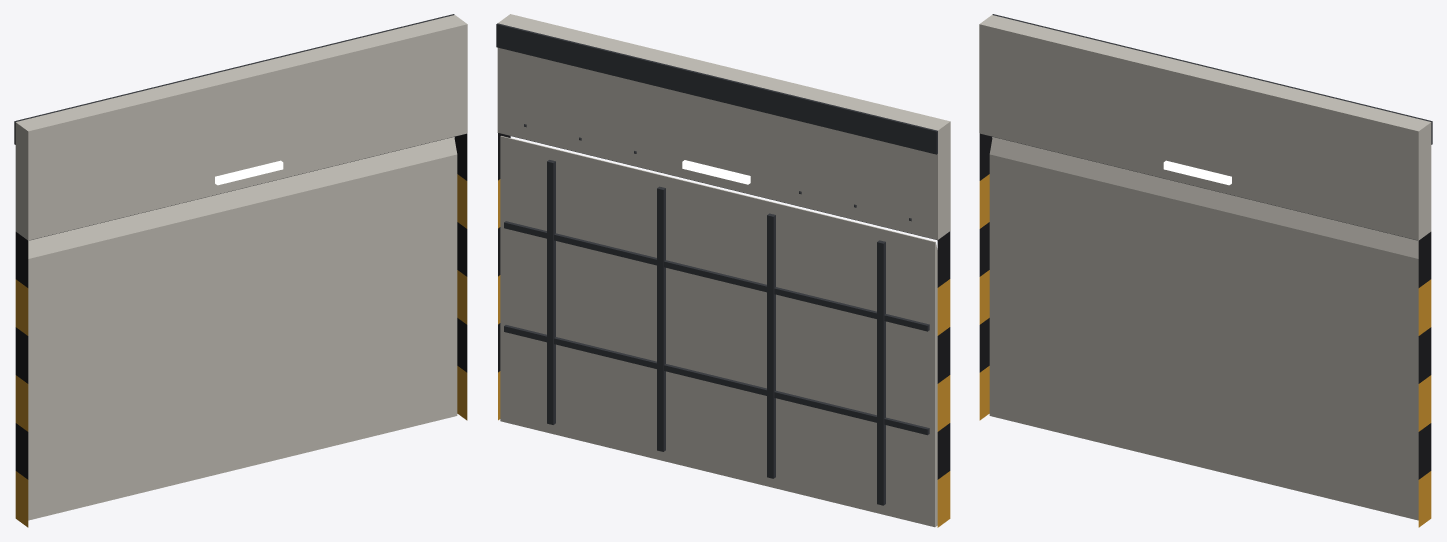
Rendered from ws_wall_bay_door.glb.
The picture shows the model from 3 angles, left to right: view 1: azimuth 30°, elevation 25°; view 2: azimuth 150°, elevation 25°; view 3: azimuth 330°, elevation 25°; orthographic projection.
Visible parts, largest first — view 1: bay_door, ws_wall_bay_door, bay_door_light; view 2: bay_door, ws_wall_bay_door, bay_door_light; view 3: bay_door, ws_wall_bay_door, bay_door_light.
Boxes of the visible parts, left/top/right/bottom form: bay_door: left=28, top=137, right=457, bottom=520; ws_wall_bay_door: left=14, top=14, right=467, bottom=527; bay_door_light: left=215, top=160, right=283, bottom=185; bay_door: left=500, top=136, right=937, bottom=527; ws_wall_bay_door: left=496, top=14, right=950, bottom=527; bay_door_light: left=682, top=160, right=750, bottom=184; bay_door: left=989, top=137, right=1418, bottom=520; ws_wall_bay_door: left=979, top=14, right=1432, bottom=527; bay_door_light: left=1163, top=160, right=1231, bottom=185.
Size of what is drawn, in the model's own units: 4 by 3.45 by 0.28.
